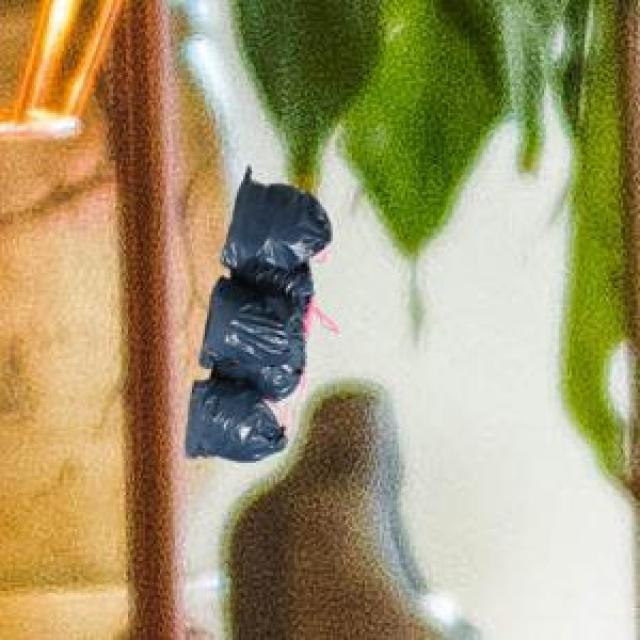miscellaneous trash: (181, 162, 326, 459)
